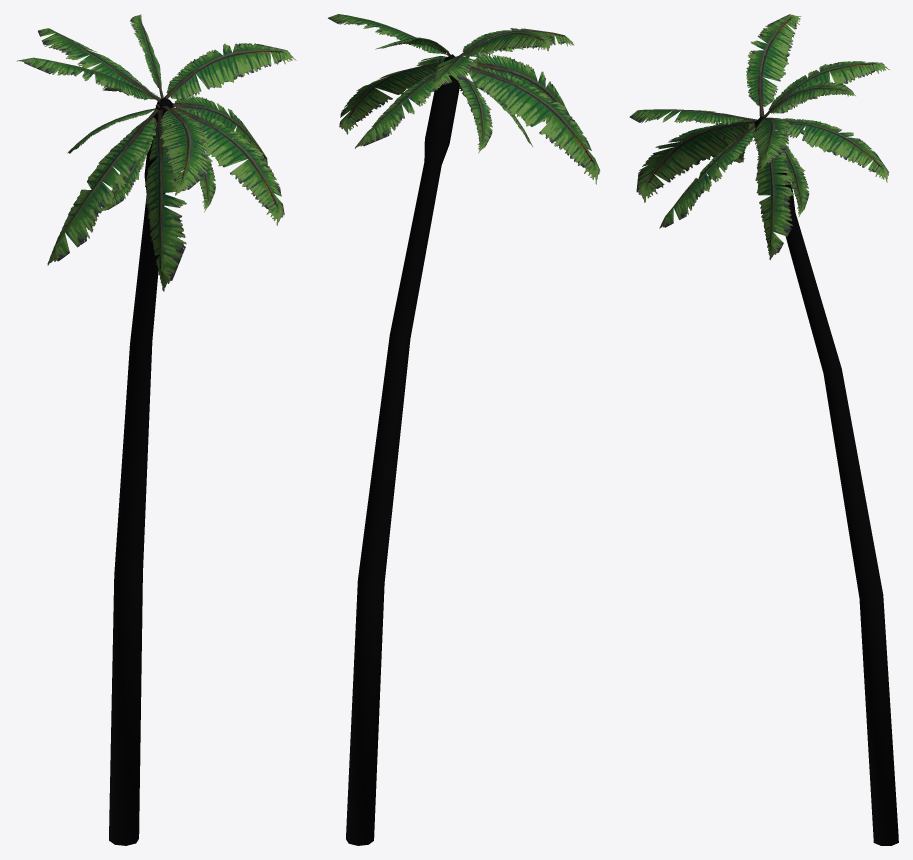
The model's file is tree_02a.fbx.
The picture shows the model from 3 angles, left to right: view 1: azimuth 30°, elevation 25°; view 2: azimuth 150°, elevation 25°; view 3: azimuth 270°, elevation 25°; orthographic projection. The views are drawn at different scales.
Visible parts, largest first — view 1: tree_02a; view 2: tree_02a; view 3: tree_02a.
Boxes of the visible parts, x1,y1,x2,y2 form: tree_02a: (16, 14, 296, 845); tree_02a: (328, 14, 600, 845); tree_02a: (629, 14, 898, 845).
Size of the model in its own units: 5.73 by 17.39 by 5.58.
